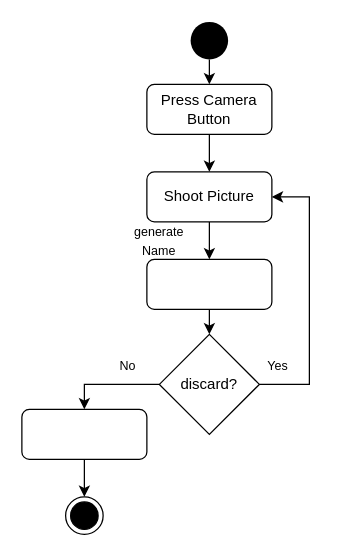
This 341x556 diagram has some shape labels left out. Here are the shapes that lost their labels. From the top down, the centre of each, then its label:
At [209,283]: "Look at Picture".
At [84,433]: "Write Text / add File".
